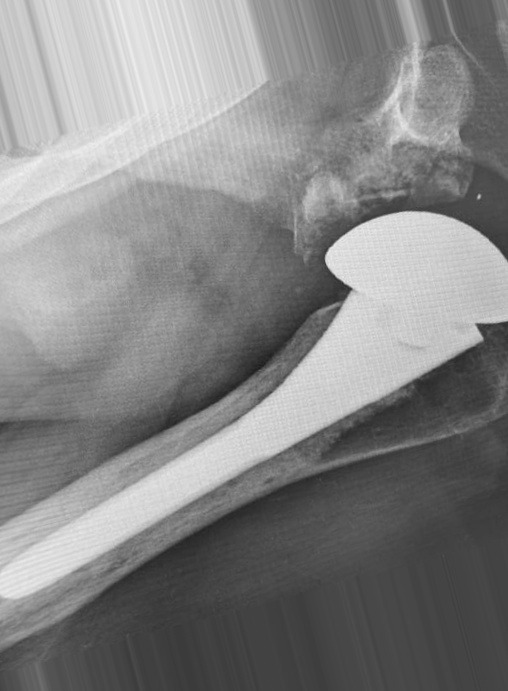Shoulder - Anotomical - Stryker: (319, 207, 508, 370)
